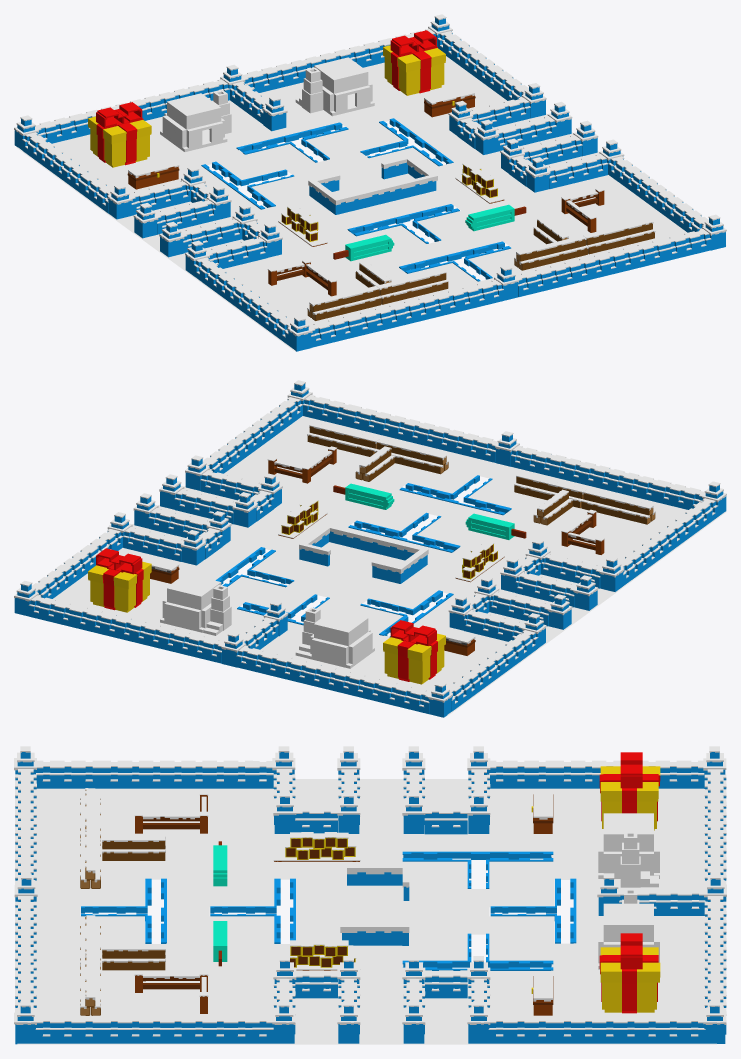
The model's file is Map_snow.fbx.
3 views of the same model, one above another, from view 1: azimuth 30°, elevation 25°; view 2: azimuth 150°, elevation 25°; view 3: azimuth 270°, elevation 25° (orthographic). The views are drawn at different scales.
Visible parts, largest first — view 1: pCube622; view 2: pCube622; view 3: pCube622.
Part boxes in pixels (<box>): pCube622: <box>14,14,726,351</box>; pCube622: <box>14,380,726,717</box>; pCube622: <box>14,746,726,1044</box>.
Bounding box in the file's own units: 29.19 × 3.34 × 33.1.
